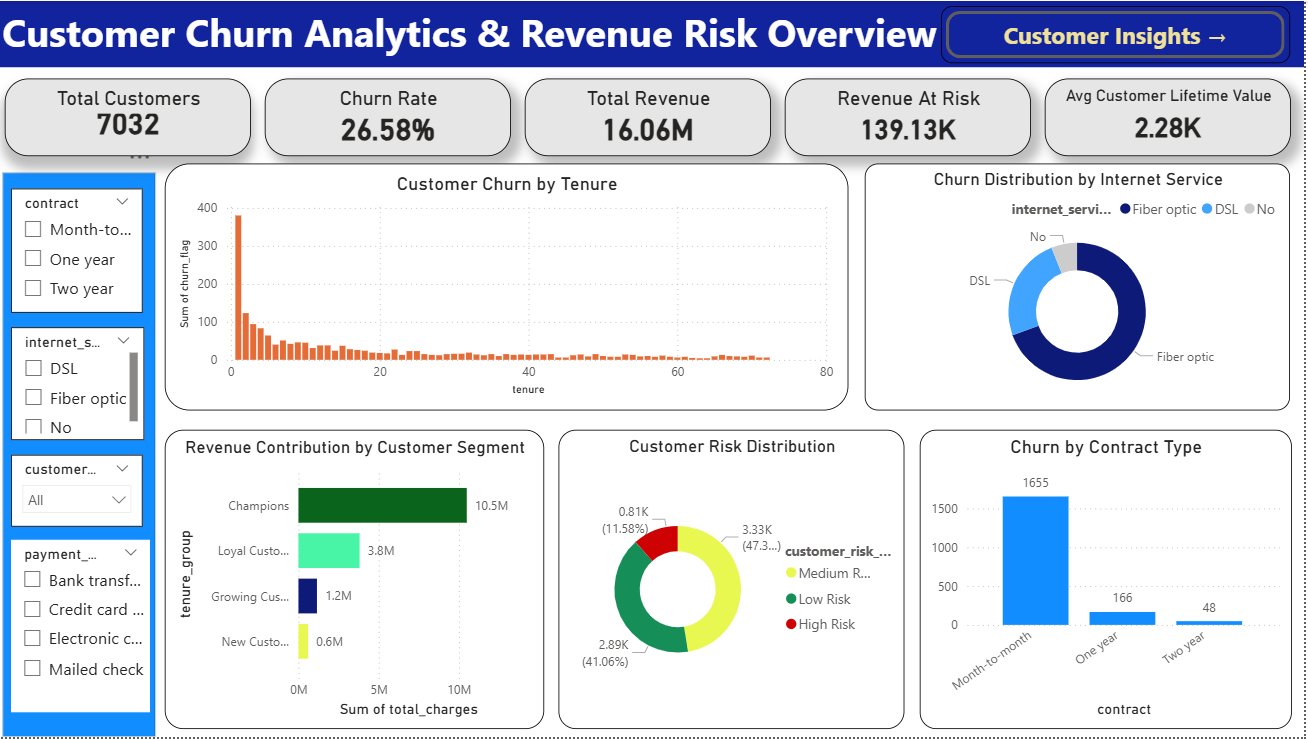

What the dashboard file says about the page in this screenshot:
{"tool":"powerbi","page":{"name":"Executive overview","canvas":[1280,720],"ordinal":0},"visuals":[{"type":"textbox","box":[1.2,0,1279.1,64.8],"z":0},{"type":"shape","box":[6.2,167.5,150,552.5],"z":1000},{"type":"card","title":"Total Customers","fields":{"Values":["Churn Data.Total Customers"]},"box":[8.6,75.8,240.9,75.8],"z":2000},{"type":"card","title":"Churn Rate","fields":{"Values":["Churn Data.Churn Rate %"]},"box":[262.9,75.8,240.9,75.8],"z":3000},{"type":"card","title":"Total Revenue","fields":{"Values":["Churn Data.Total Revenue"]},"box":[517.3,75.8,240.9,75.8],"z":4000},{"type":"card","title":"Revenue At Risk","fields":{"Values":["Churn Data.Revenue At Risk"]},"box":[771.6,75.8,240.9,75.8],"z":5000},{"type":"card","title":"Avg Customer Lifetime Value","fields":{"Values":["Churn Data.Avg CLV"]},"box":[1026,75.8,240.9,75.8],"z":6000},{"type":"columnChart","title":"Churn by Contract Type","fields":{"Category":["Churn Data.contract"],"Y":["Sum(Churn Data.churn_flag)"]},"box":[903.8,419.8,363.8,292.5],"z":7000},{"type":"columnChart","title":"Customer Churn by Tenure","fields":{"Category":["Churn Data.tenure"],"Y":["Sum(Churn Data.churn_flag)"]},"box":[165,158.8,668.8,241.2],"z":8000},{"type":"donutChart","title":"Churn Distribution by Internet Service","fields":{"Y":["Sum(Churn Data.churn_flag)"],"Category":["Churn Data.internet_service"]},"box":[850,158.8,416.2,241.2],"z":9000},{"type":"donutChart","title":"Customer Risk Distribution","fields":{"Y":["CountNonNull(Churn Data.customer_id)"],"Category":["Churn Data.customer_risk_level"]},"box":[550.5,419.8,338.8,292.5],"z":10000},{"type":"barChart","title":"Revenue Contribution by Customer Segment","fields":{"Category":["Churn Data.tenure_group"],"Y":["Sum(Churn Data.total_charges)"]},"box":[165.1,419.8,370.9,293],"z":11000},{"type":"slicer","fields":{"Values":["Churn Data.contract"]},"box":[15,183.8,128.8,121.2],"z":12000},{"type":"slicer","fields":{"Values":["Churn Data.internet_service"]},"box":[15,319.2,130,110],"z":13000},{"type":"slicer","fields":{"Values":["Churn Data.customer_risk_level"]},"box":[15,443.3,128.8,70],"z":14000},{"type":"slicer","fields":{"Values":["Churn Data.payment_method"]},"box":[15,527.5,136.2,168.8],"z":15000},{"type":"actionButton","box":[925,5,341.2,56.2],"z":16000}]}

Visuals, with their boxes in screenshot pixels (x1, y1, x2, y2), scaled from the page's 1280x720 canvas onto the 1308x741 screenshot:
textbox: (1, 0, 1307, 67)
shape: (6, 172, 160, 740)
"Total Customers" card: (9, 78, 255, 156)
"Churn Rate" card: (269, 78, 515, 156)
"Total Revenue" card: (529, 78, 775, 156)
"Revenue At Risk" card: (788, 78, 1035, 156)
"Avg Customer Lifetime Value" card: (1048, 78, 1295, 156)
"Churn by Contract Type" columnChart: (924, 432, 1295, 733)
"Customer Churn by Tenure" columnChart: (169, 163, 852, 412)
"Churn Distribution by Internet Service" donutChart: (869, 163, 1294, 412)
"Customer Risk Distribution" donutChart: (563, 432, 909, 733)
"Revenue Contribution by Customer Segment" barChart: (169, 432, 548, 734)
slicer - Churn Data.contract: (15, 189, 147, 314)
slicer - Churn Data.internet_service: (15, 329, 148, 442)
slicer - Churn Data.customer_risk_level: (15, 456, 147, 528)
slicer - Churn Data.payment_method: (15, 543, 155, 717)
actionButton: (945, 5, 1294, 63)
